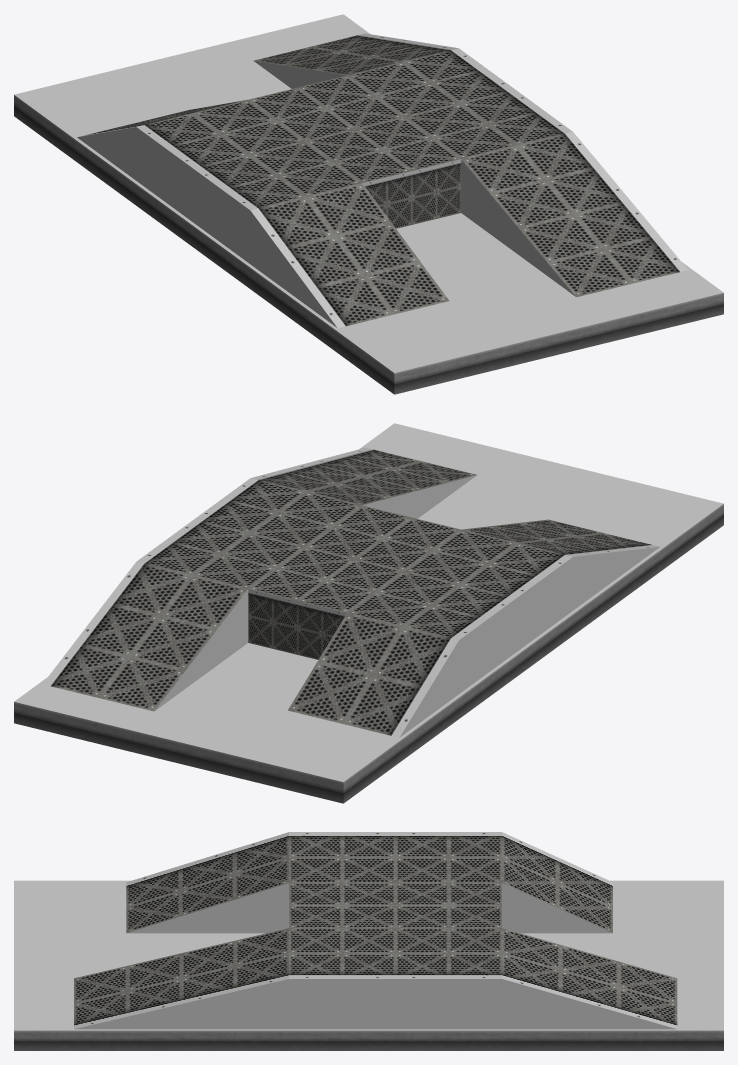
The model's file is Ramps03.fbx.
3 renders of one model, top to bottom at view 1: azimuth 30°, elevation 25°; view 2: azimuth 150°, elevation 25°; view 3: azimuth 270°, elevation 25°, orthographic. The views are drawn at different scales.
Parts seen in each view (by area): view 1: Empty_Mesh; view 2: Empty_Mesh; view 3: Empty_Mesh.
Part boxes in pixels (x1,y1,x2,y2): Empty_Mesh: [14, 14, 723, 394]; Empty_Mesh: [14, 423, 723, 803]; Empty_Mesh: [14, 832, 723, 1050].
Bounding box in the file's own units: 1600 × 350 × 3200.
